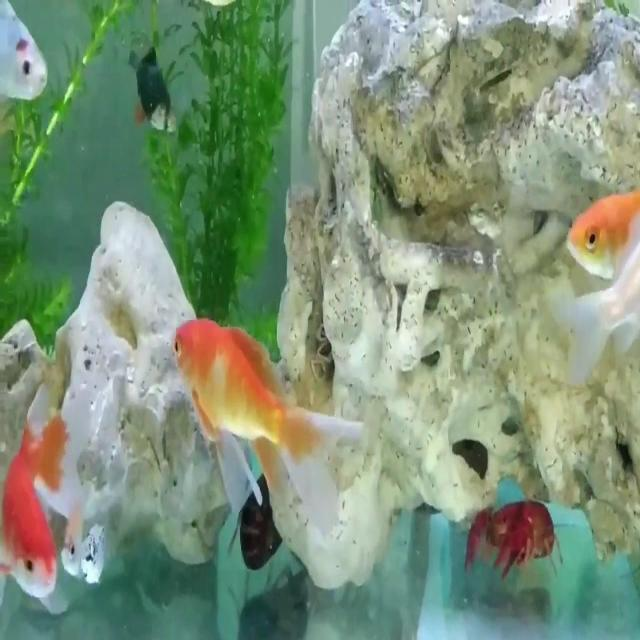GoldFish: (164, 300, 368, 540), (0, 401, 74, 613)
